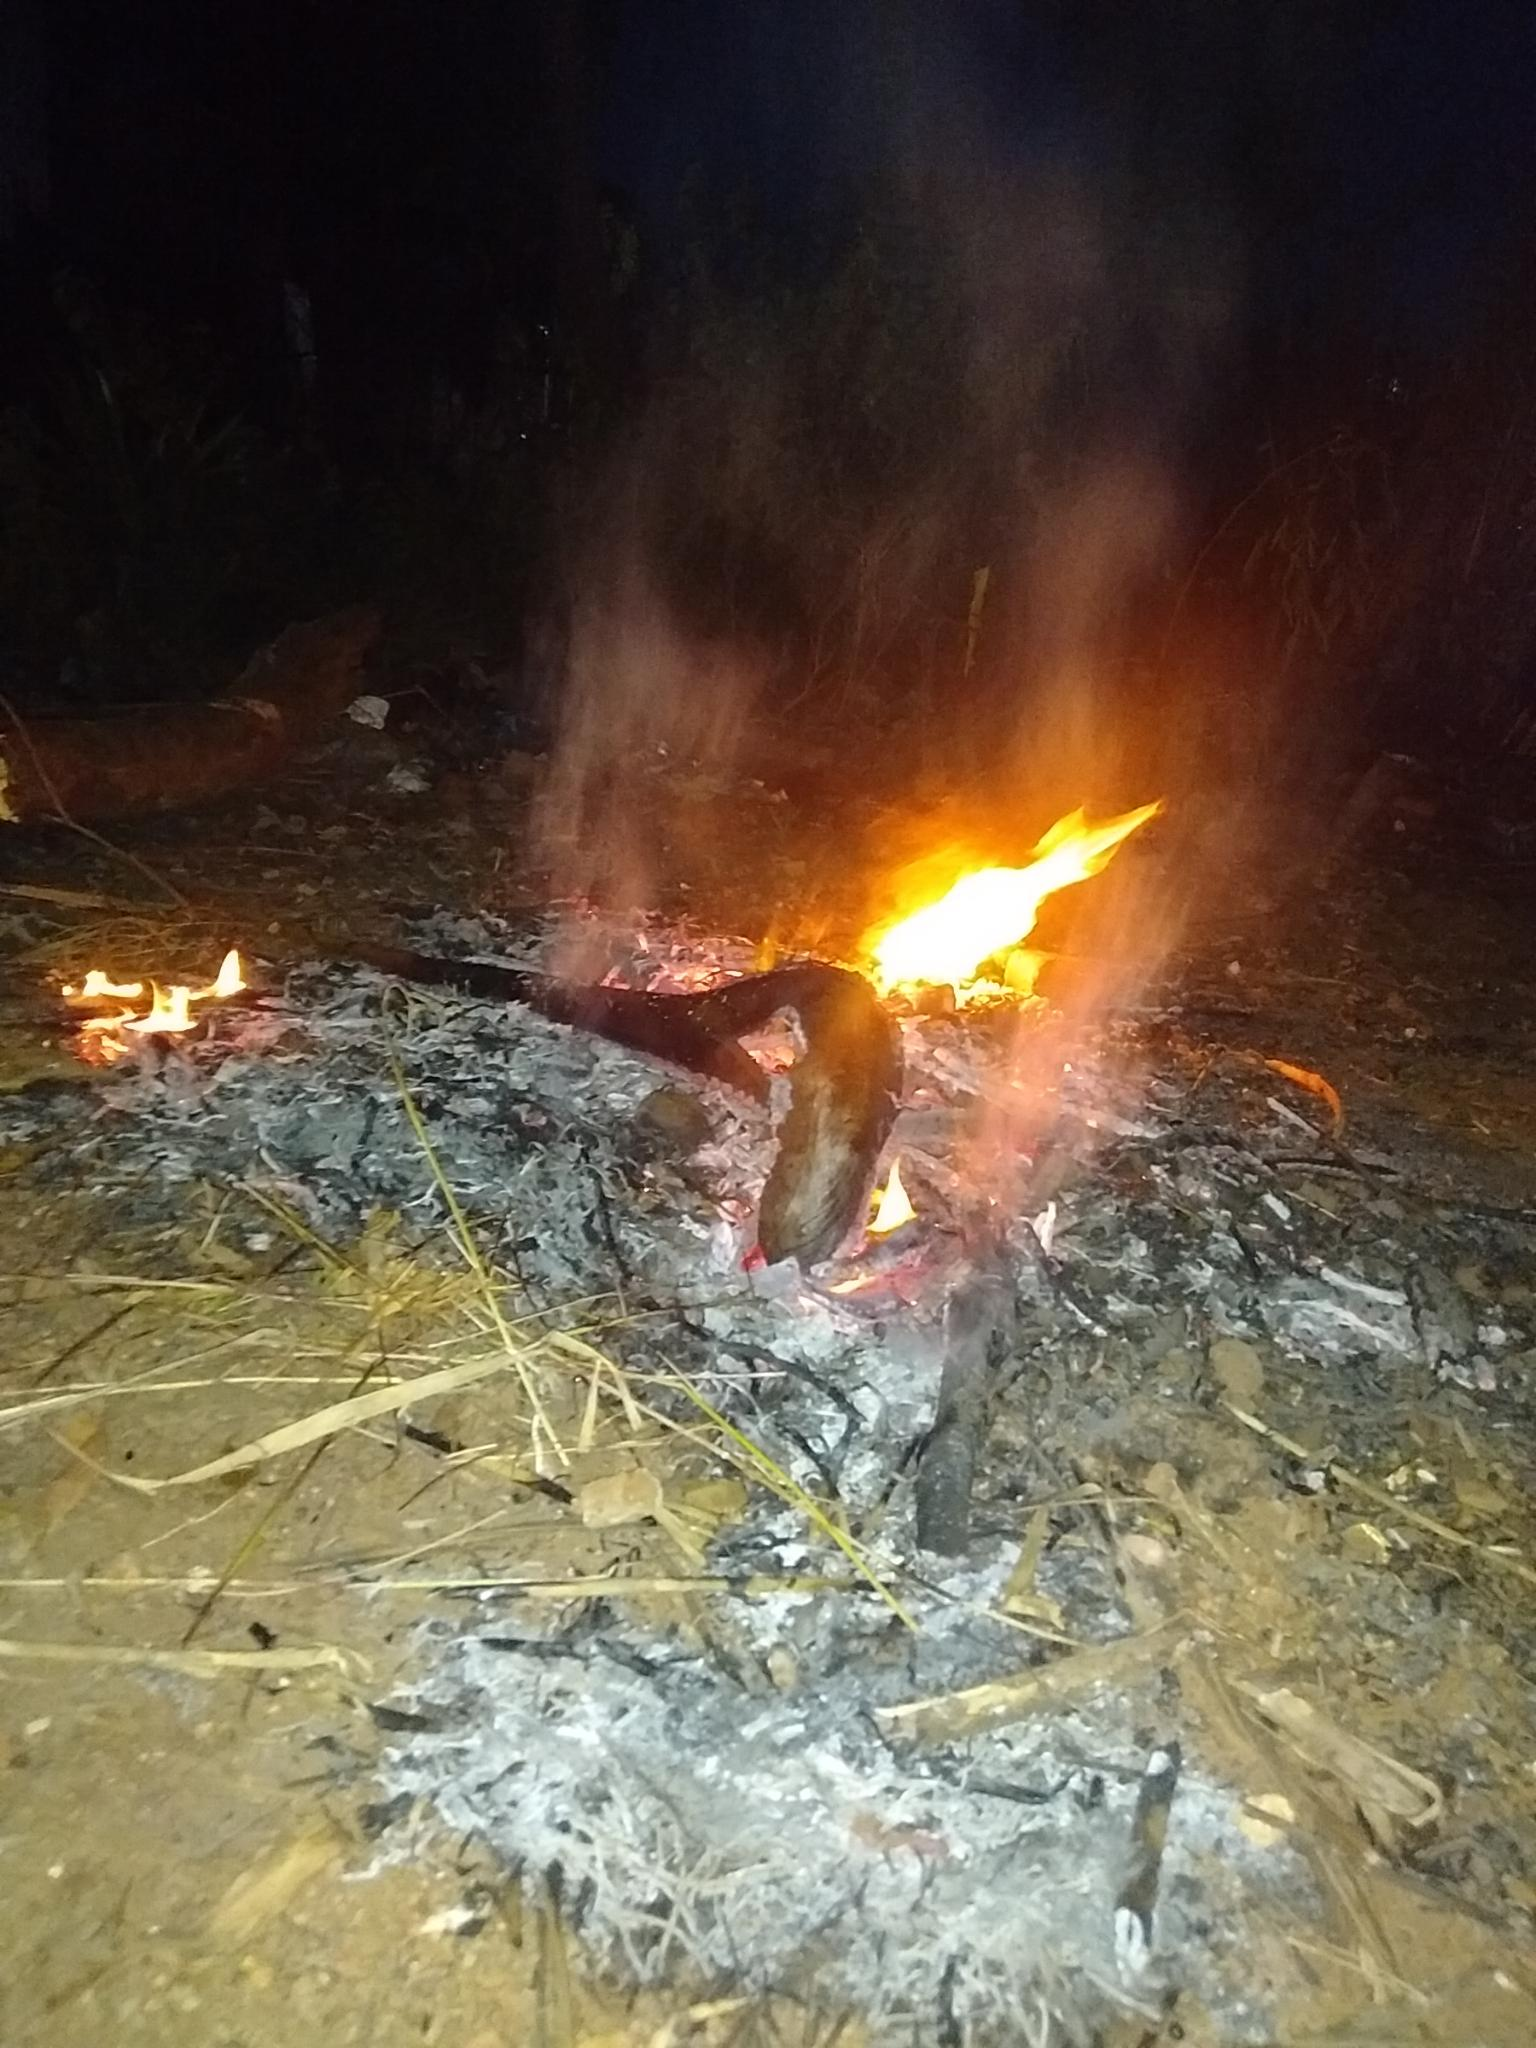Fire: (849, 792, 1168, 1009), (48, 942, 255, 1069)
